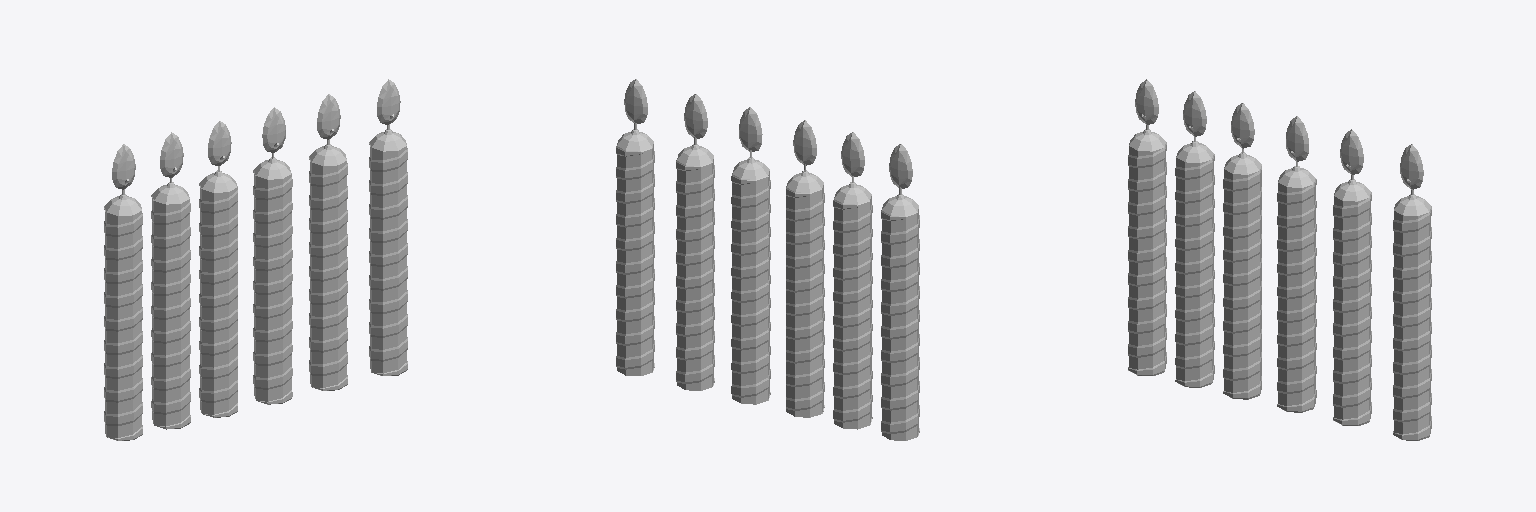
Rendered from birthday candle.obj.
3 renders of one model, left to right at view 1: azimuth 30°, elevation 25°; view 2: azimuth 150°, elevation 25°; view 3: azimuth 330°, elevation 25°, orthographic.
Bounding box in the file's own units: 13.27 × 12.24 × 1.56.